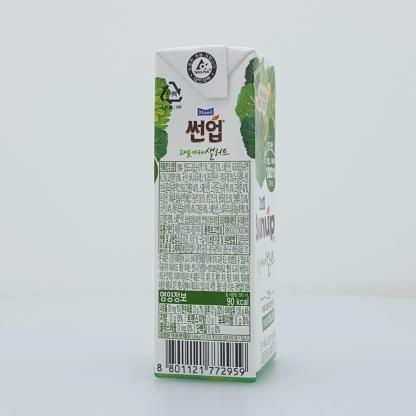-------------200ML: (154, 44, 276, 383)
